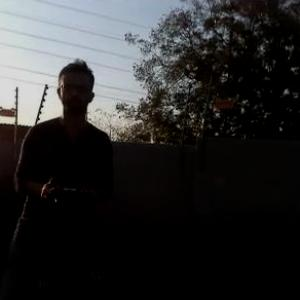follow: (0, 54, 117, 299)
